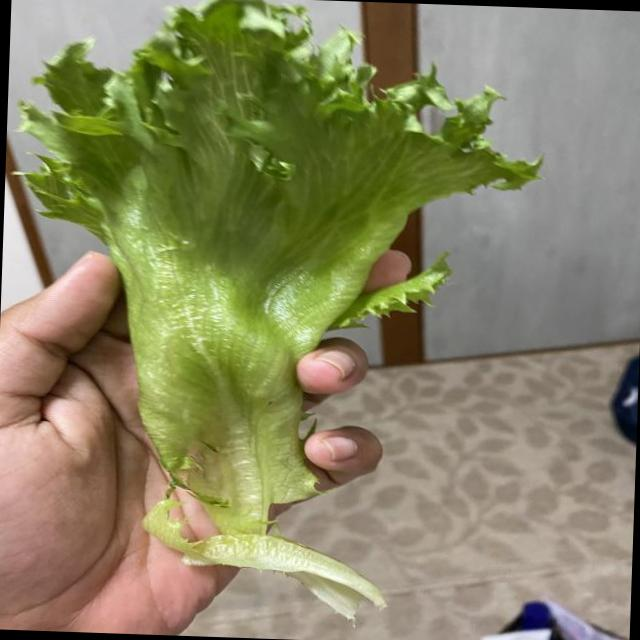Lettuce-Ready-to-Harvest: (21, 0, 539, 617)
